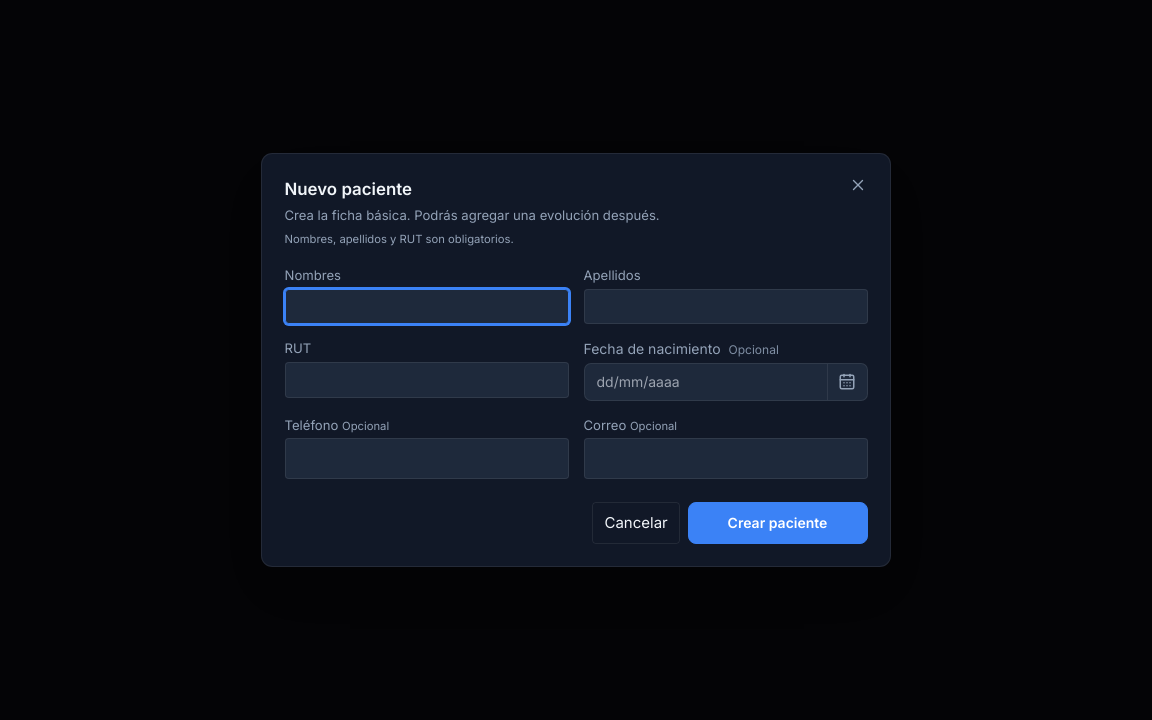
Test case: PatientFormModal › explains an invalid checksum without changing the validation rule
Type "13.456.456-7" into the field named "RUT" at (426, 380), box [284,362,568,398]
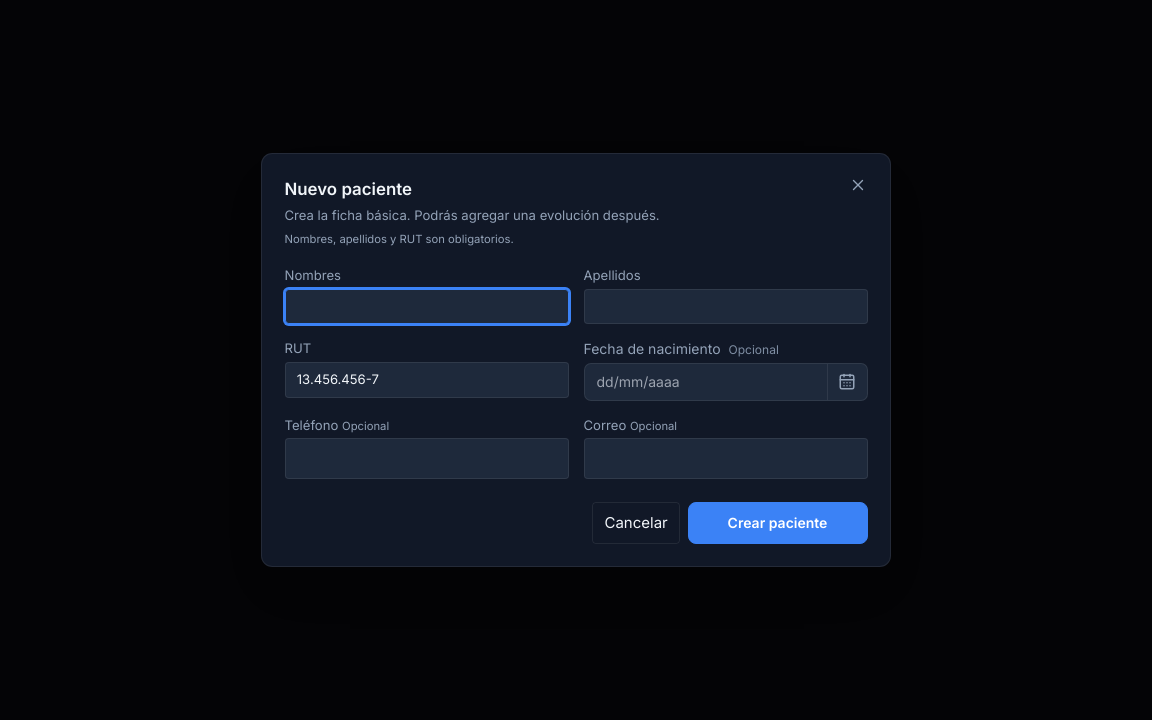
Leave the field named "RUT", box [284,362,568,398]
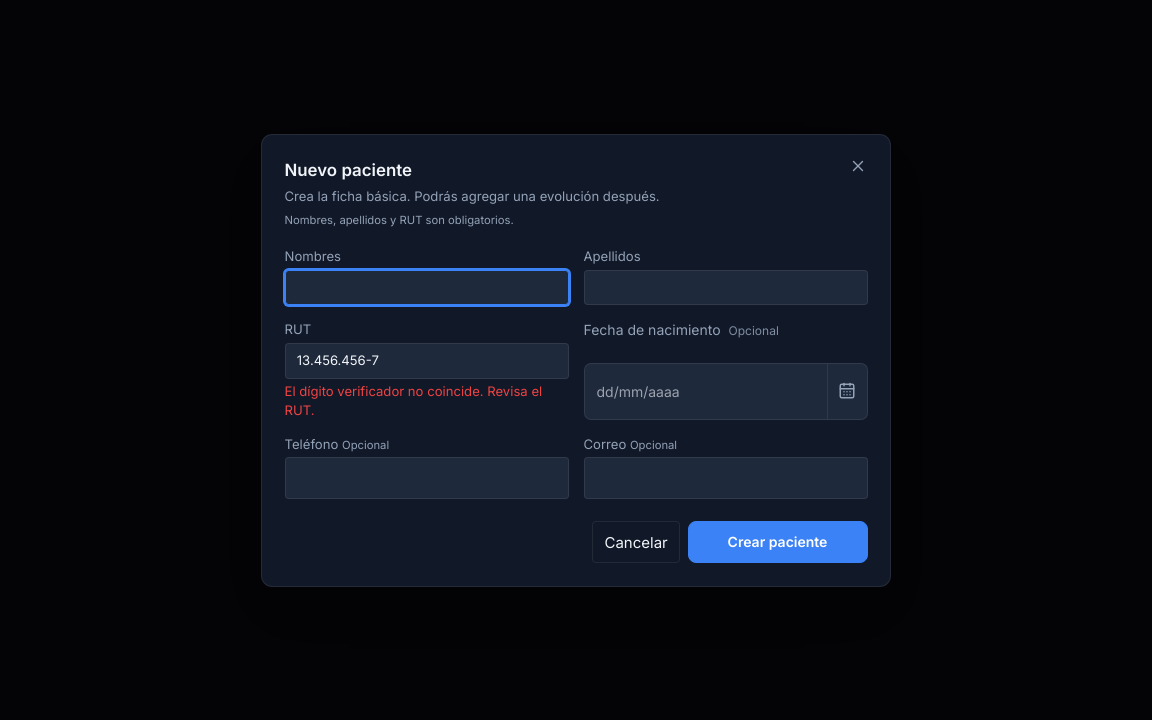
Result: the text "El dígito verificador no coincide. Revisa el RUT." is shown at [284,382,568,420]
